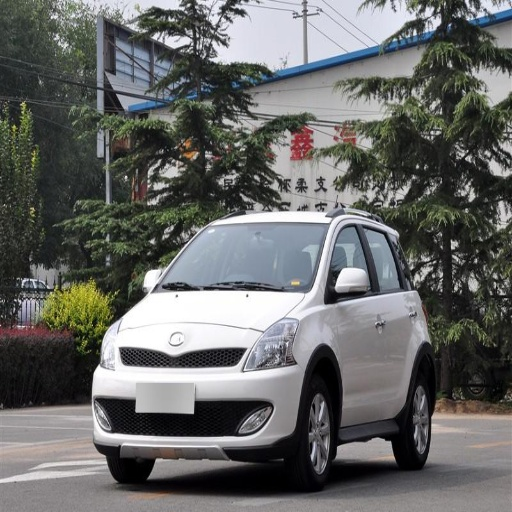front_bumper: (93, 322, 306, 460)
front_glass: (154, 227, 327, 292)
front_left_door: (327, 219, 385, 422)
